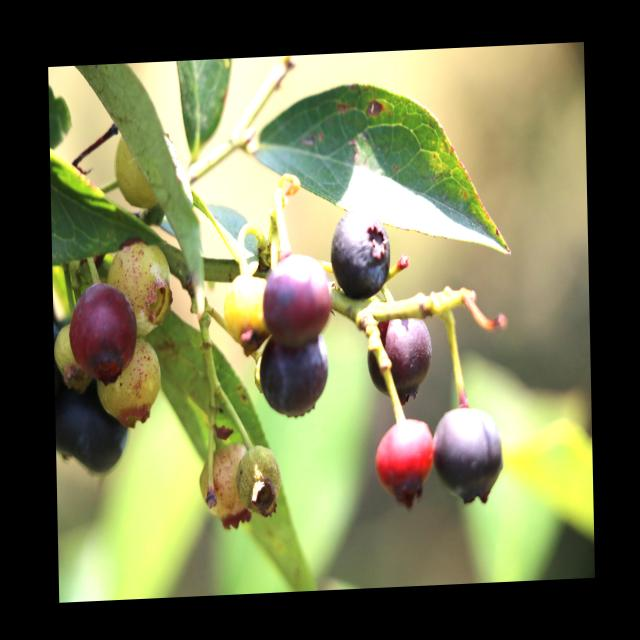blueberry: (426, 400, 512, 515), (253, 328, 335, 427), (324, 201, 396, 307), (360, 310, 436, 410)
blueberry-halfripe: (67, 278, 140, 381), (263, 254, 331, 346), (371, 412, 433, 496)
blueberry-unripe: (110, 235, 172, 330), (103, 340, 166, 422), (201, 441, 252, 528), (112, 132, 159, 213), (222, 270, 270, 343), (235, 444, 280, 511)
